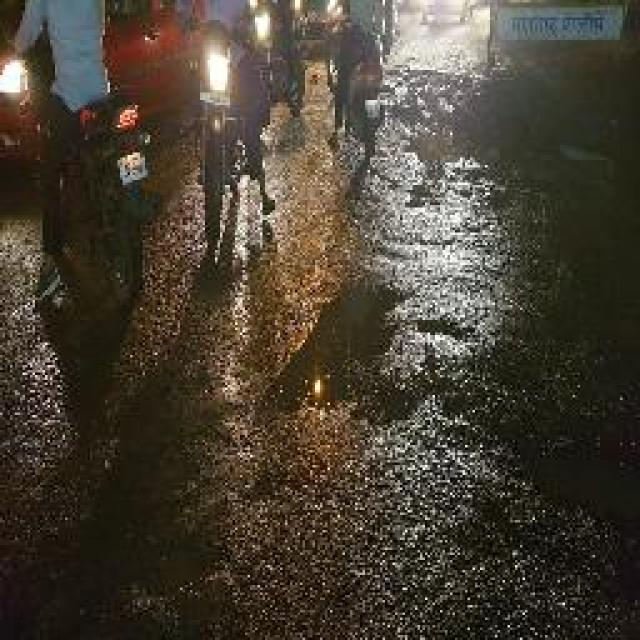waterlogging: (277, 258, 488, 449), (408, 60, 585, 222)
